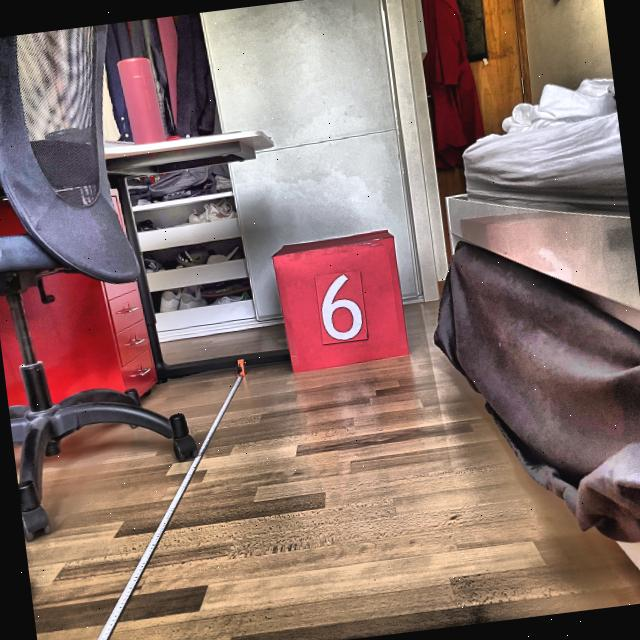red box: (271, 230, 414, 374)
six: (316, 272, 366, 344)
